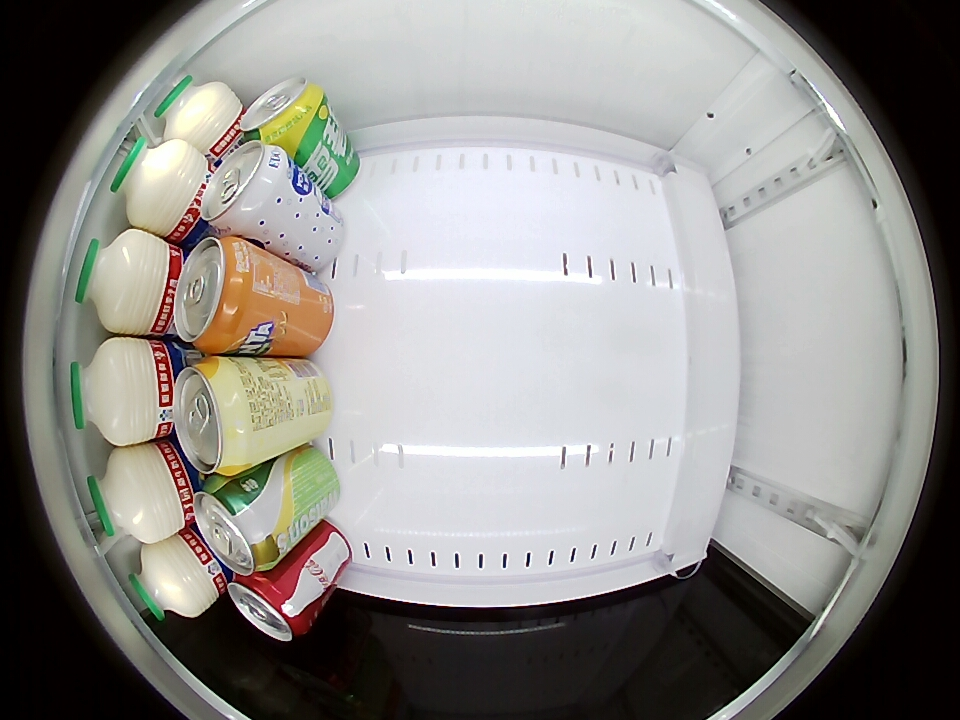fenda: (174, 236, 257, 353)
kele: (228, 572, 310, 642)
liziyuan: (75, 229, 173, 336), (69, 335, 162, 445), (108, 137, 207, 237), (90, 443, 185, 544), (129, 536, 220, 621), (153, 73, 242, 154)
mangguoxiaolao: (175, 357, 253, 475)
quchenshixiangcao: (193, 474, 278, 576)
rusuanjunqishui: (200, 141, 293, 236)
xuebi2: (241, 77, 327, 145)
